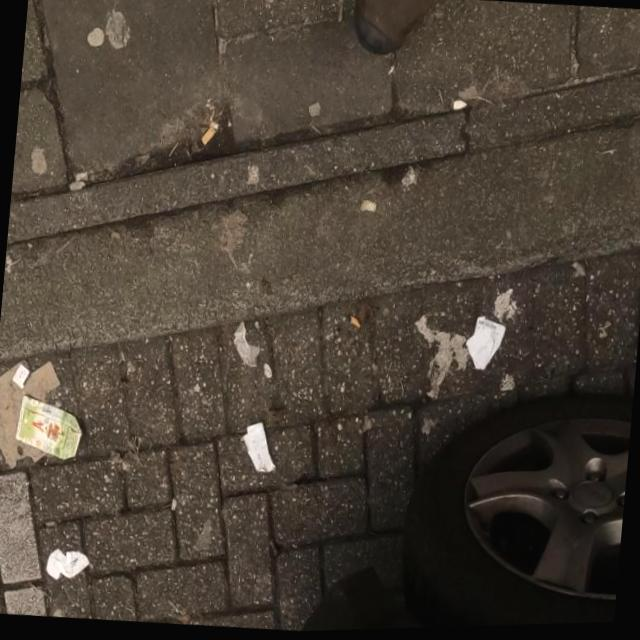Paper: (38, 546, 88, 585), (466, 318, 502, 372), (240, 423, 272, 475)
